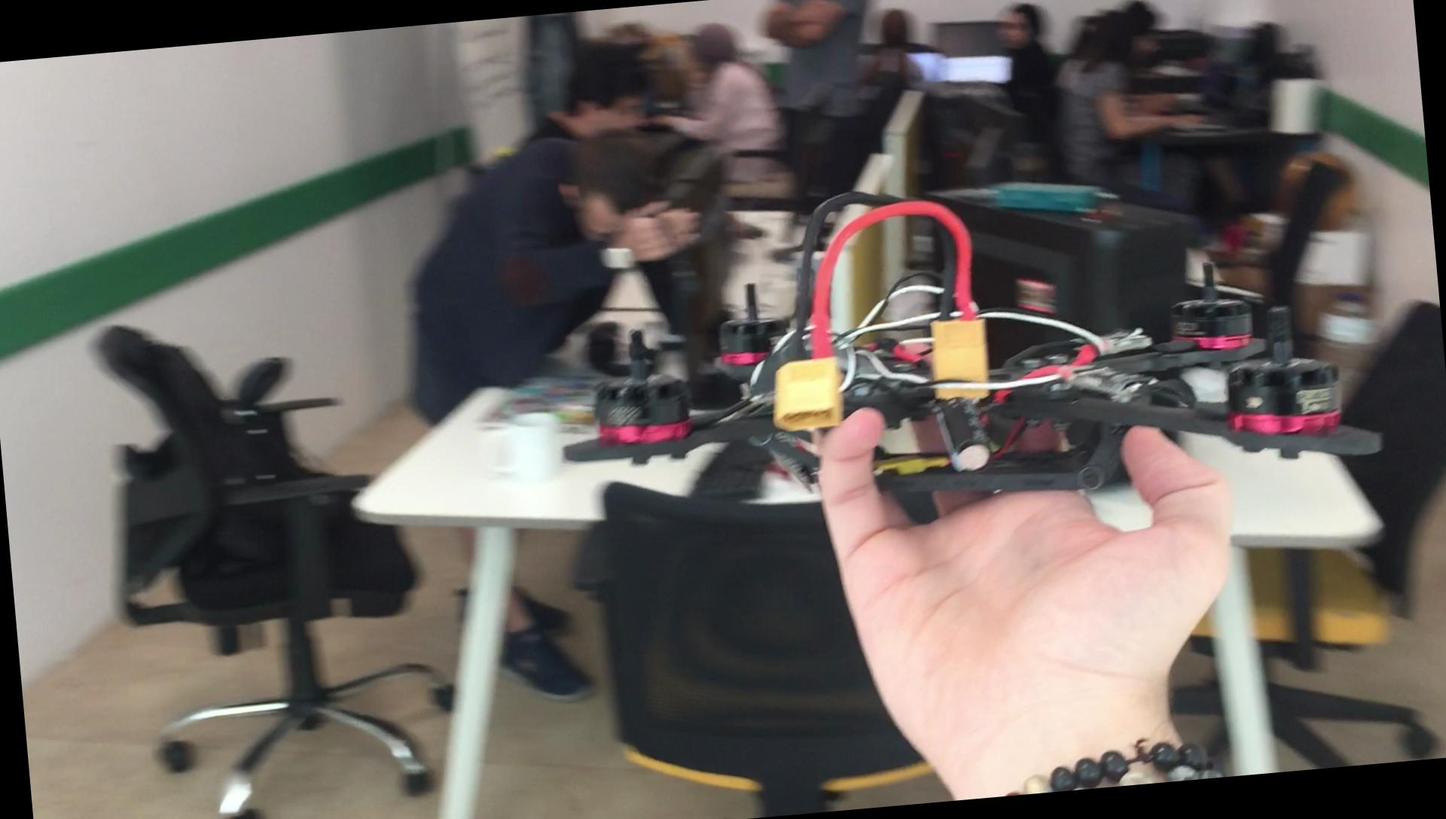drone: (505, 239, 1352, 544)
